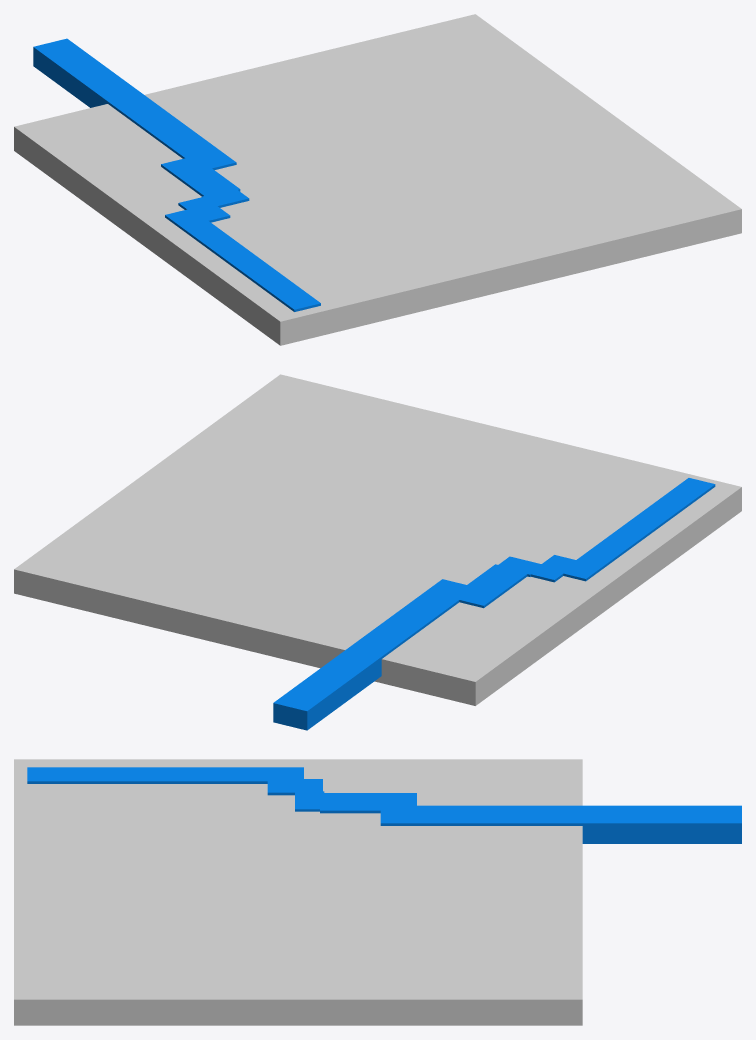
Rendered from river_example.fbx.
The picture shows the model from 3 angles, top to bottom: view 1: azimuth 30°, elevation 25°; view 2: azimuth 150°, elevation 25°; view 3: azimuth 270°, elevation 25°; orthographic projection. The views are drawn at different scales.
Visible parts, largest first — view 1: Cube, WaterCut2; view 2: Cube, WaterCut2; view 3: Cube, WaterCut2.
Boxes of the visible parts, x1,y1,x2,y2 form: Cube: (14, 14, 741, 345); WaterCut2: (33, 38, 320, 311); Cube: (14, 374, 741, 705); WaterCut2: (273, 478, 715, 730); Cube: (14, 759, 582, 1025); WaterCut2: (27, 767, 741, 843).
Bounding box in the file's own units: 20000 × 1100 × 25597.
